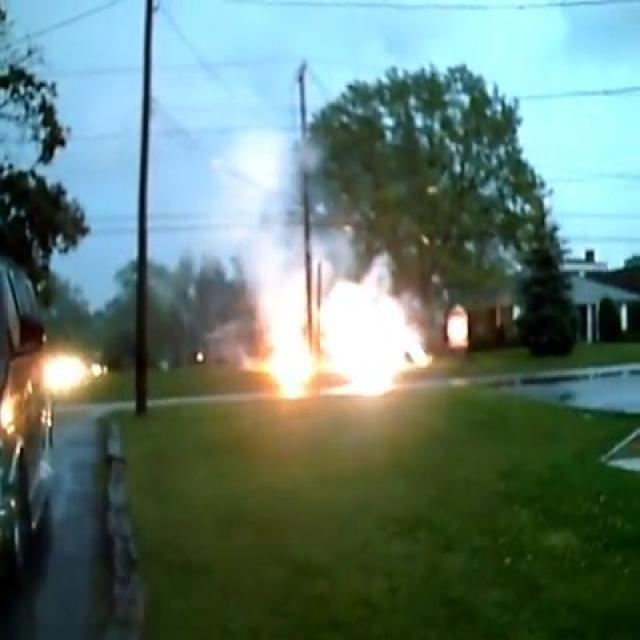Fire: (252, 238, 432, 407)
